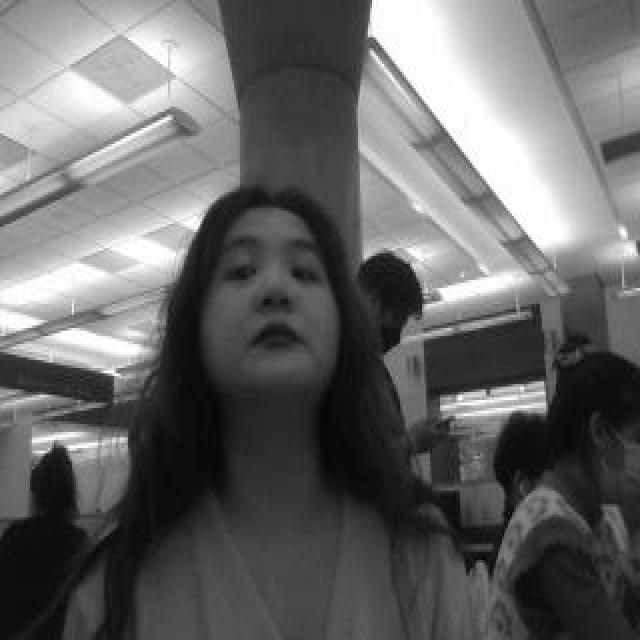Focused: (194, 211, 338, 408)
